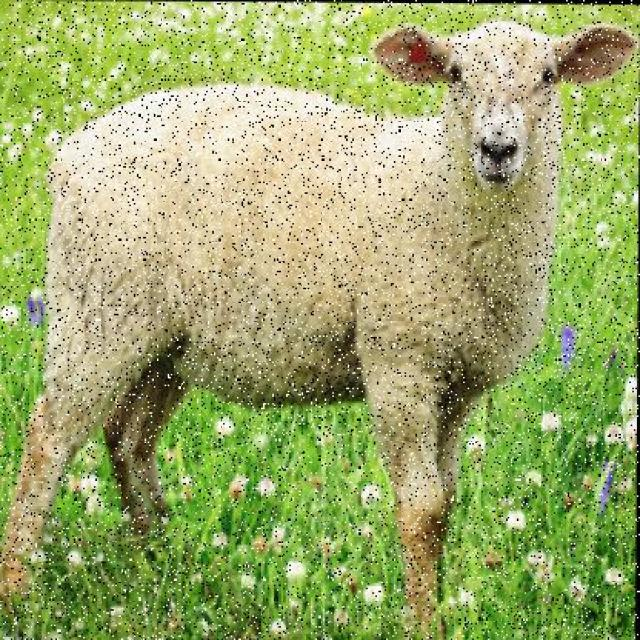Sheep: (0, 3, 638, 638)
